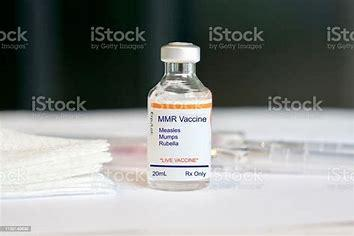Syringe: (138, 33, 216, 194)
